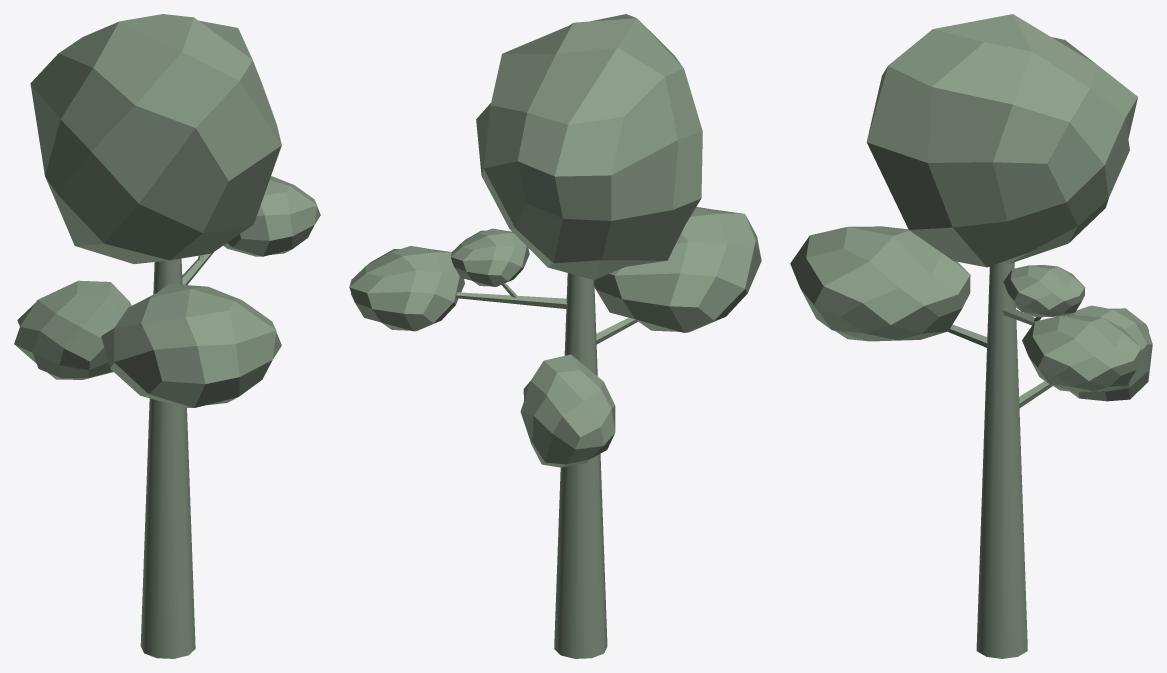
The model's file is abedulAdulto.fbx.
3 views of the same model, side by side, from view 1: azimuth 30°, elevation 25°; view 2: azimuth 150°, elevation 25°; view 3: azimuth 270°, elevation 25° (orthographic). The views are drawn at different scales.
Parts seen in each view (by area): view 1: polySurface5; view 2: polySurface5; view 3: polySurface5.
Boxes of the visible parts, x1,y1,x2,y2 form: polySurface5: (14, 14, 320, 658); polySurface5: (349, 14, 761, 658); polySurface5: (790, 14, 1152, 658).
Size of the model in its own units: 3.22 by 6.44 by 3.45.
